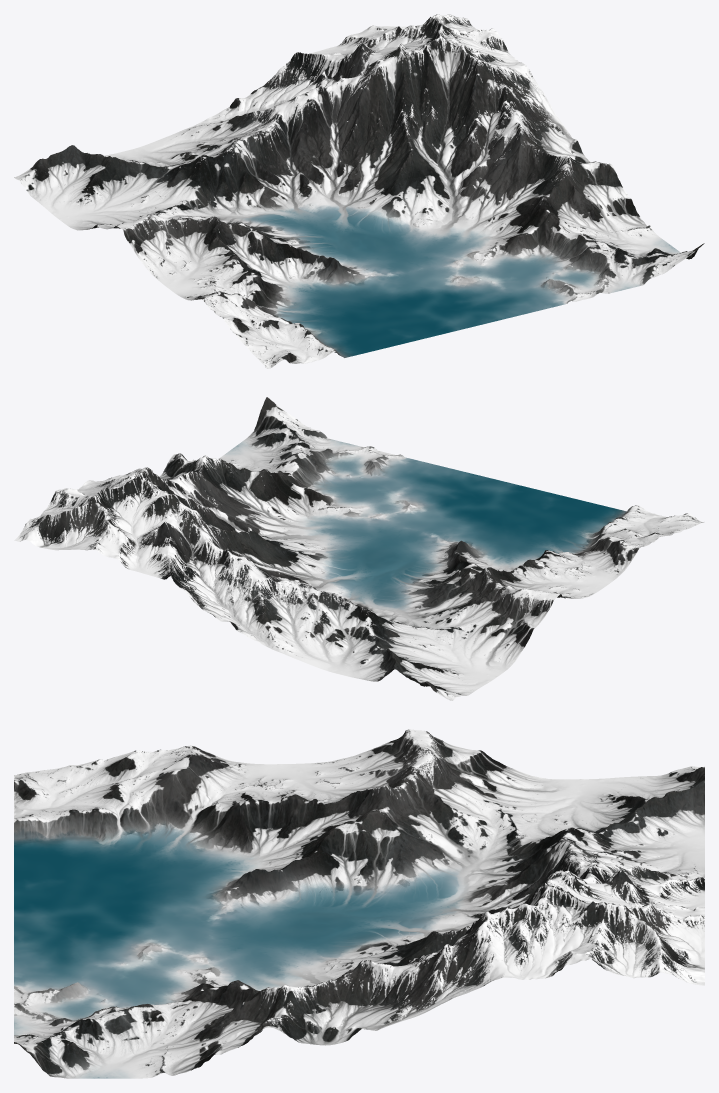
File: frozen.glb
3 views of the same model, one above another, from view 1: azimuth 30°, elevation 25°; view 2: azimuth 150°, elevation 25°; view 3: azimuth 270°, elevation 25° (orthographic). The views are drawn at different scales.
Visible parts, largest first — view 1: Object_2, Object_4, Object_3, Object_5, Object_6; view 2: Object_2, Object_4, Object_6, Object_3, Object_5; view 3: Object_2, Object_6, Object_3, Object_4, Object_5.
Part boxes in pixels (box(x1,y1,x2,y2)): Object_2: box(139, 15, 704, 357); Object_4: box(19, 75, 500, 250); Object_3: box(14, 14, 696, 292); Object_5: box(86, 14, 639, 227); Object_6: box(19, 15, 690, 368); Object_2: box(14, 397, 626, 609); Object_4: box(173, 492, 570, 698); Object_6: box(22, 407, 704, 696); Object_3: box(35, 401, 576, 700); Object_5: box(22, 465, 408, 671); Object_2: box(14, 753, 704, 1078); Object_6: box(14, 730, 695, 1050); Object_3: box(18, 729, 704, 1076); Object_4: box(359, 731, 704, 965); Object_5: box(186, 791, 703, 1070).
Bounding box in the file's own units: 0.999 × 0.2368 × 0.999.
1 material, 1 textured.
